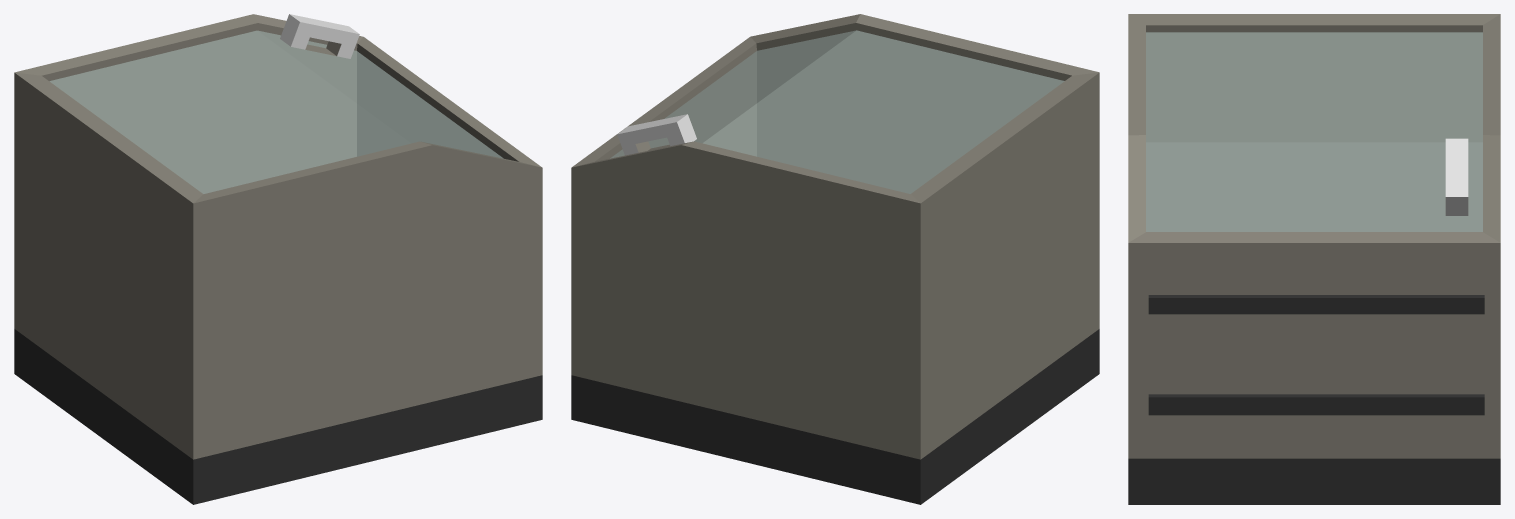
File: S.Freezer.fbx
3 renders of one model, left to right at view 1: azimuth 30°, elevation 25°; view 2: azimuth 150°, elevation 25°; view 3: azimuth 270°, elevation 25°, orthographic. The views are drawn at different scales.
Visible parts, largest first — view 1: Freezer; view 2: Freezer; view 3: Freezer.
Boxes of the visible parts, <box> form: Freezer: <box>14,14,542,504</box>; Freezer: <box>571,14,1099,504</box>; Freezer: <box>1128,14,1500,504</box>.
Bounding box in the file's own units: 301 × 249 × 263.
